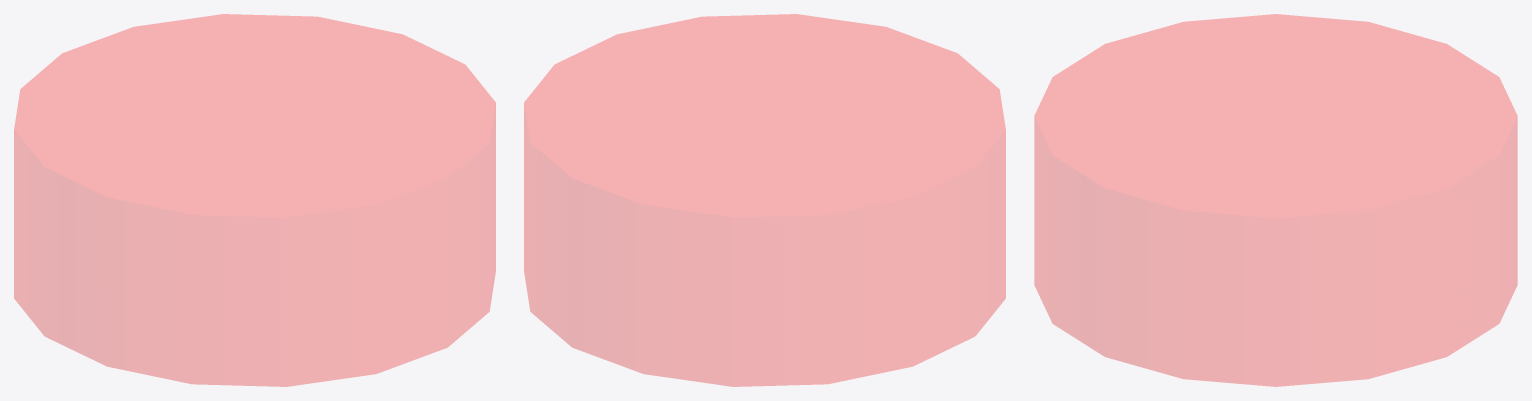
The model's file is s01a_na1-obstacles.glb.
3 renders of one model, left to right at view 1: azimuth 30°, elevation 25°; view 2: azimuth 150°, elevation 25°; view 3: azimuth 270°, elevation 25°, orthographic.
Visible parts, largest first — view 1: boulder-colonly; view 2: boulder-colonly; view 3: boulder-colonly.
Part boxes in pixels (x1=…): boulder-colonly: x1=14, y1=14, x2=495, y2=386; boulder-colonly: x1=524, y1=14, x2=1005, y2=386; boulder-colonly: x1=1034, y1=14, x2=1517, y2=386.
Size of the model in its own units: 5.2 by 2 by 5.2.
